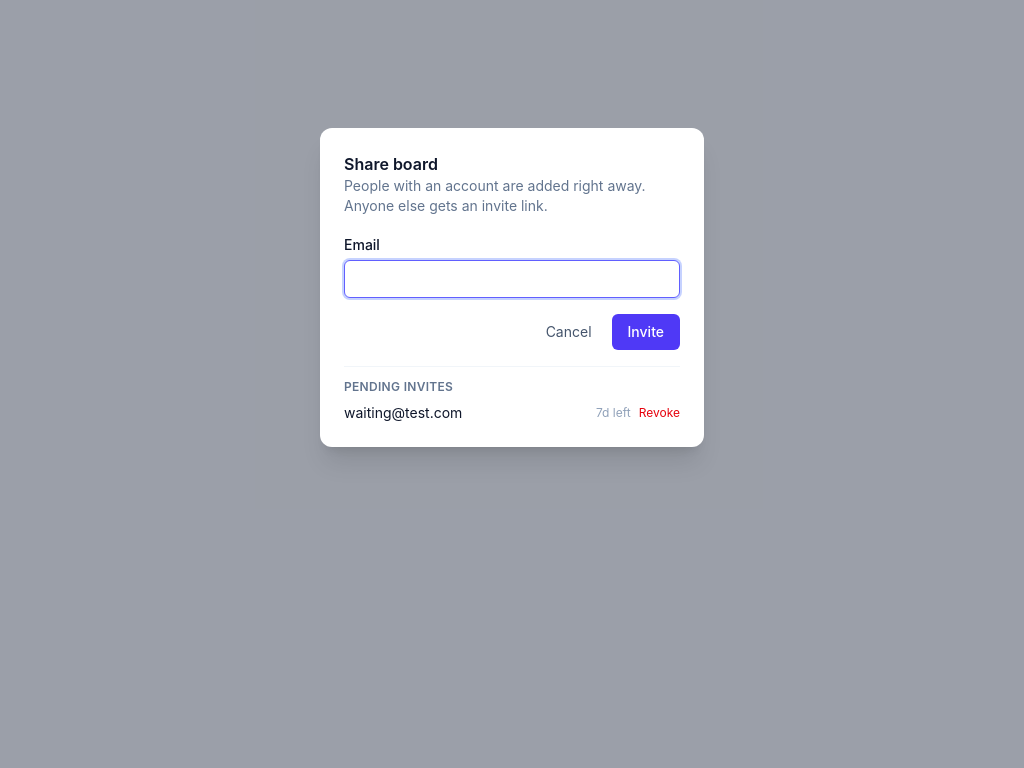
Test: ShareDialog › lists pending invites and revokes one
Check: the text "waiting@test.com" is shown, box [344,404,462,421]
Check: the text "7d left" is shown, box [596,405,631,421]
Click the button with aria-label "Revoke invite for waiting@test.com": (659, 413) [639,405,680,421]
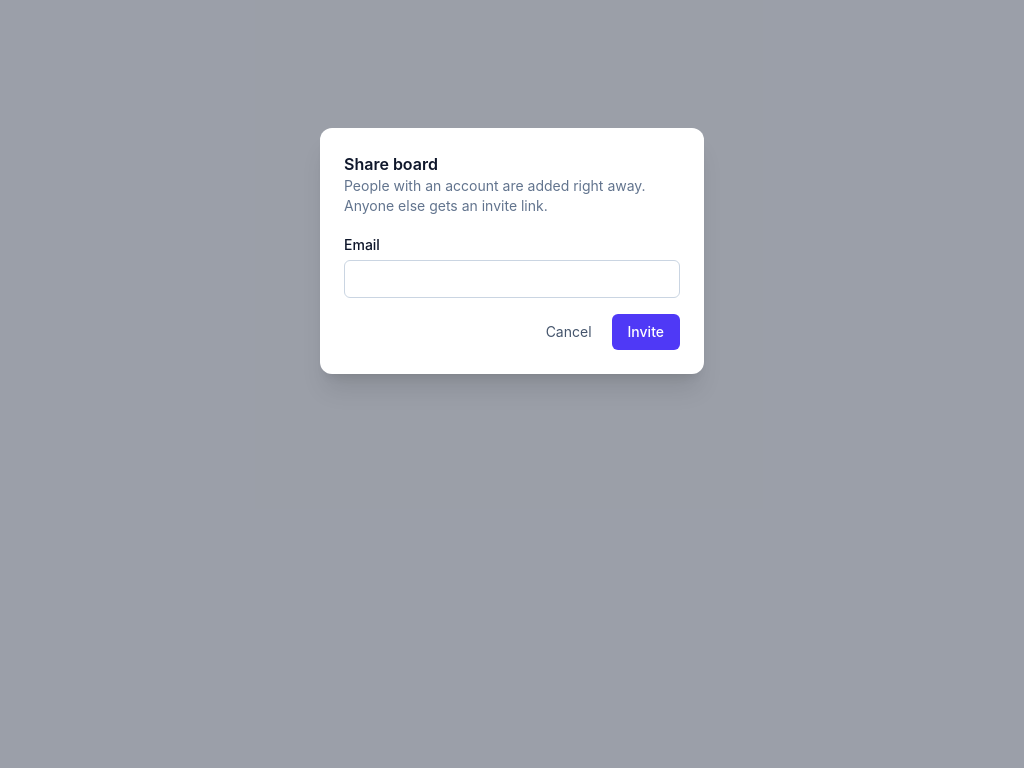
Check: the text "waiting@test.com" is gone
